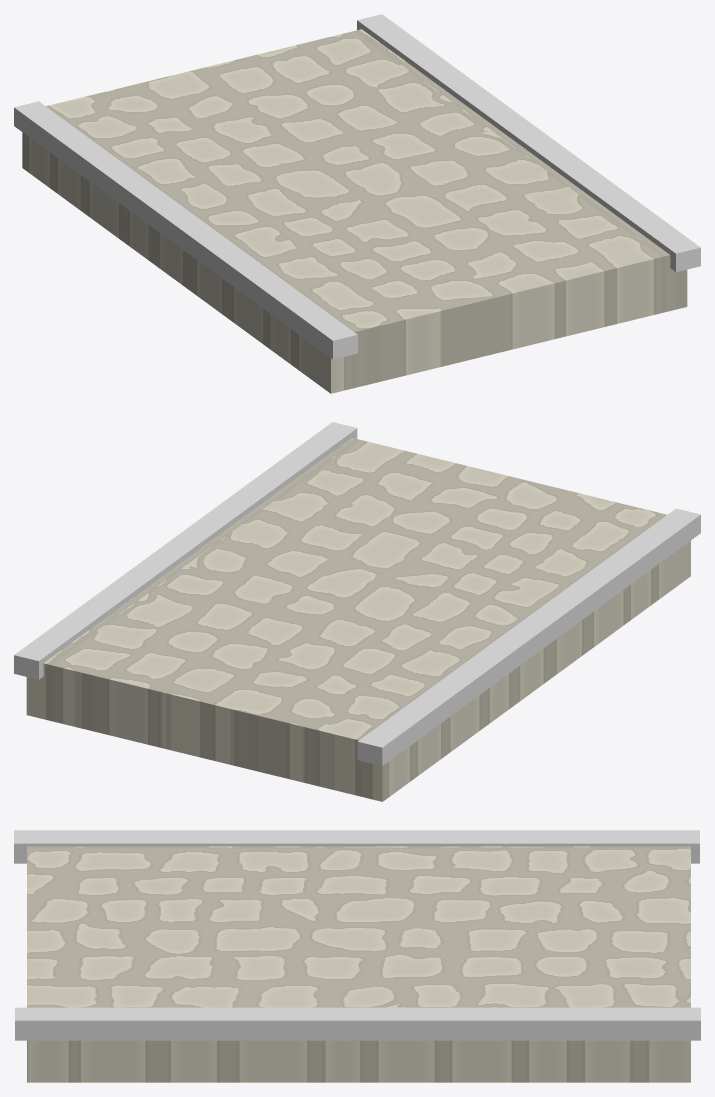
File: Road Main Element.fbx
3 views of the same model, one above another, from view 1: azimuth 30°, elevation 25°; view 2: azimuth 150°, elevation 25°; view 3: azimuth 270°, elevation 25° (orthographic). The views are drawn at different scales.
Visible parts, largest first — view 1: Box54, Box56, Box55; view 2: Box54, Box56, Box55; view 3: Box54, Box55, Box56.
Boxes of the visible parts, x1=… form: Box54: x1=22, y1=29, x2=687, y2=393; Box56: x1=14, y1=101, x2=357, y2=359; Box55: x1=357, y1=14, x2=700, y2=272; Box54: x1=26, y1=438, x2=690, y2=801; Box56: x1=357, y1=508, x2=700, y2=766; Box55: x1=14, y1=422, x2=357, y2=679; Box54: x1=27, y1=846, x2=690, y2=1082; Box55: x1=15, y1=1007, x2=700, y2=1040; Box56: x1=14, y1=830, x2=699, y2=863.
Size of the model in its own units: 10.34 by 1.65 by 15.52.
1 material, 1 textured.
